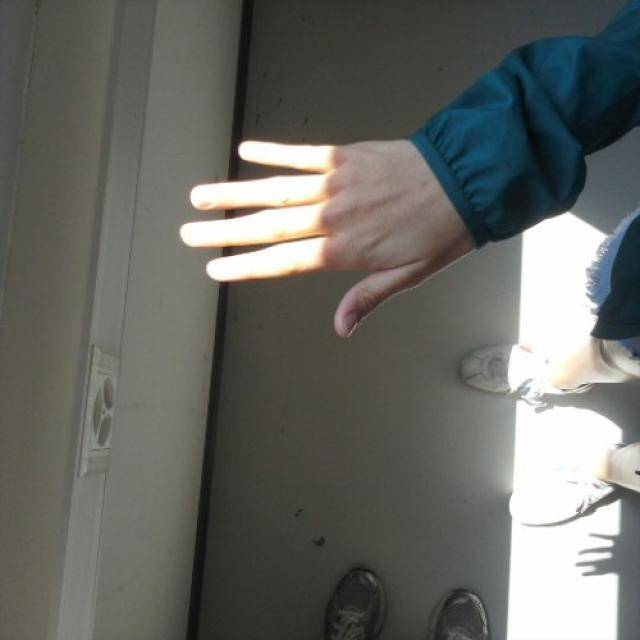paper: (181, 133, 460, 340)
